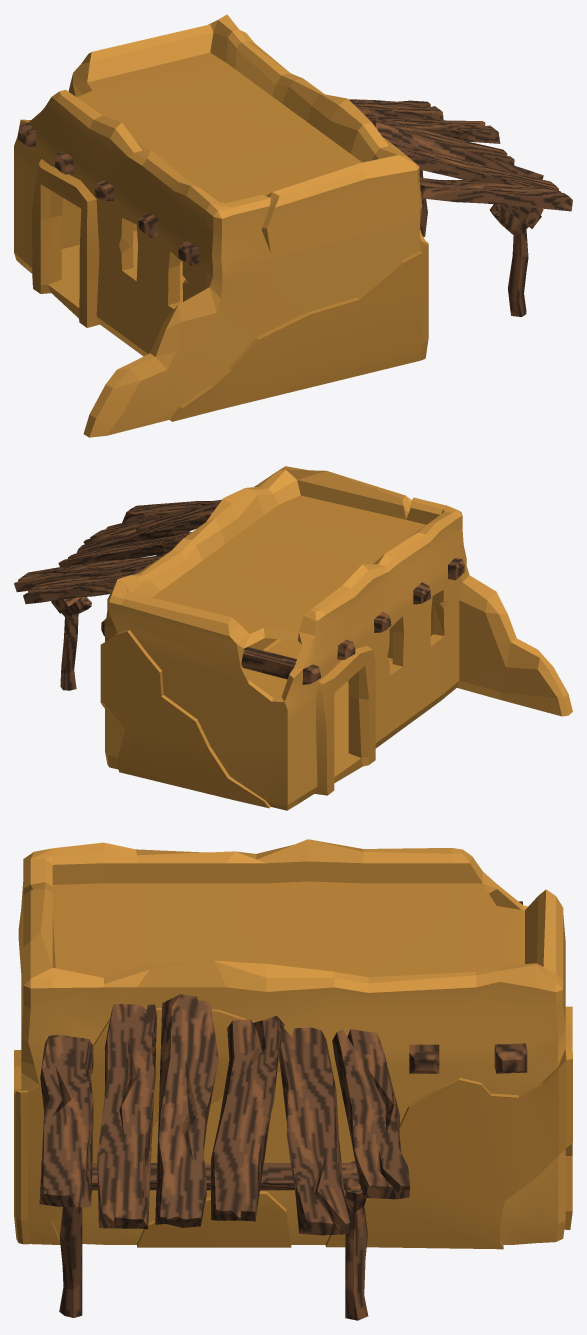
The model's file is Building_M1.fbx.
The picture shows the model from 3 angles, top to bottom: view 1: azimuth 30°, elevation 25°; view 2: azimuth 150°, elevation 25°; view 3: azimuth 270°, elevation 25°; orthographic projection. The views are drawn at different scales.
Parts seen in each view (by area): view 1: Medium Building; view 2: Medium Building; view 3: Medium Building.
Boxes of the visible parts, x1,y1,x2,y2 form: Medium Building: (14,14,572,437); Medium Building: (14,466,572,810); Medium Building: (14,839,572,1320).
Size of the model in its own units: 281 by 110 by 198.
